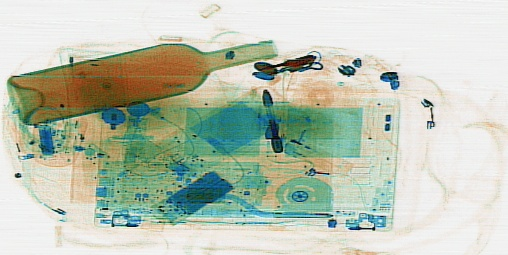lighter: (283, 134, 354, 179)
powerbank: (149, 167, 235, 226)
